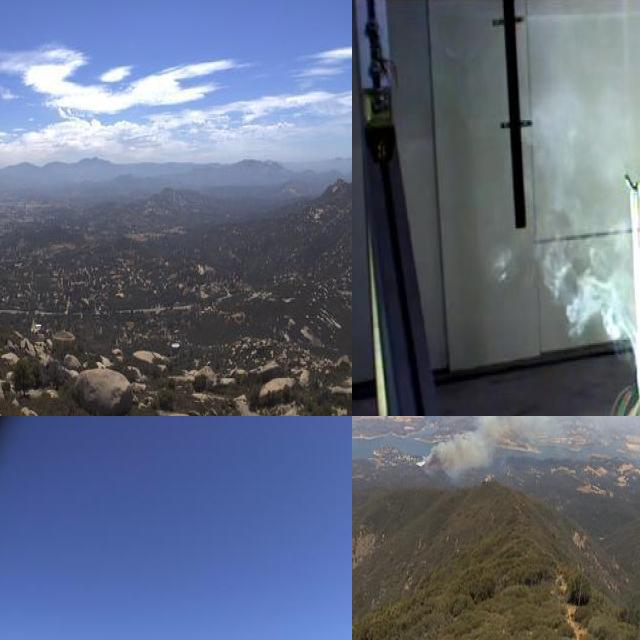smoke: (489, 81, 638, 362), (411, 416, 640, 488)
